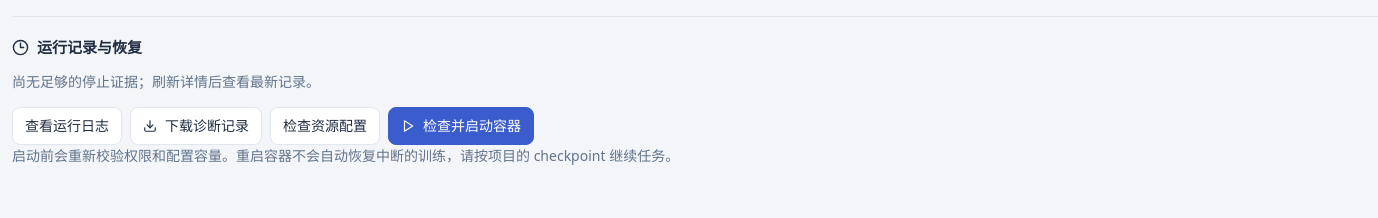
Scenario: diagnostic export failure never creates a file or retains a successful status
Click the button "下载诊断记录" at (196, 126), box 130,107 -> 262,145
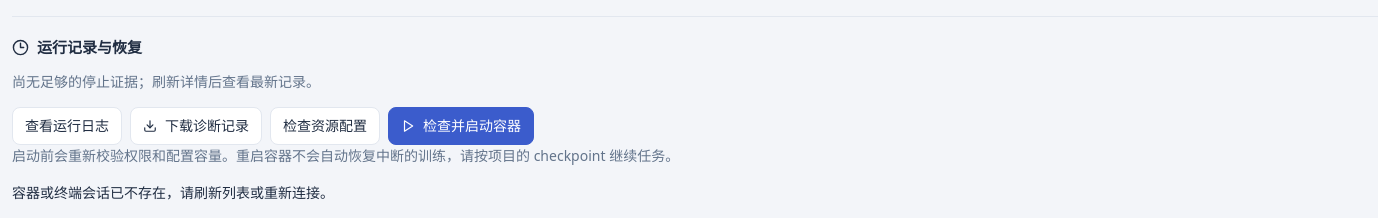
Now the message shows "容器或终端会话已不存在", box 12,183 -> 334,202
